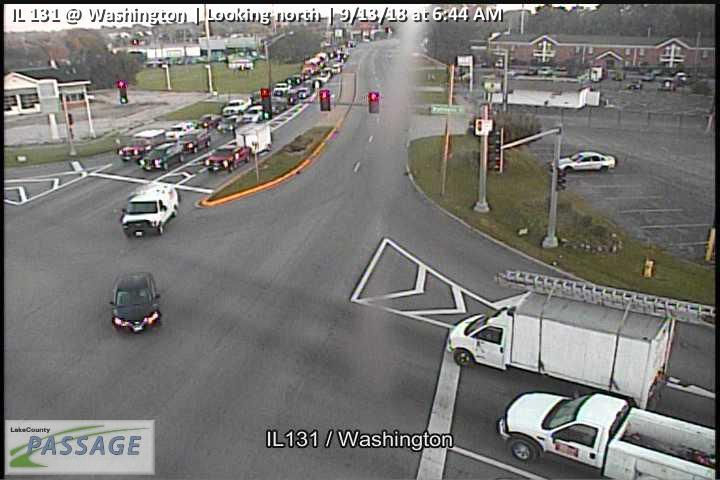SUV: (118, 184, 179, 236)
Sedan: (108, 272, 162, 332), (557, 150, 616, 174), (205, 144, 251, 173), (138, 144, 187, 171), (177, 130, 212, 151), (115, 141, 153, 160), (236, 102, 266, 125)
Truck: (446, 269, 717, 410), (499, 390, 719, 480)
